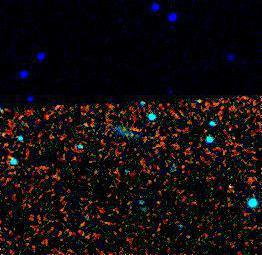star: (237, 188, 262, 218)
